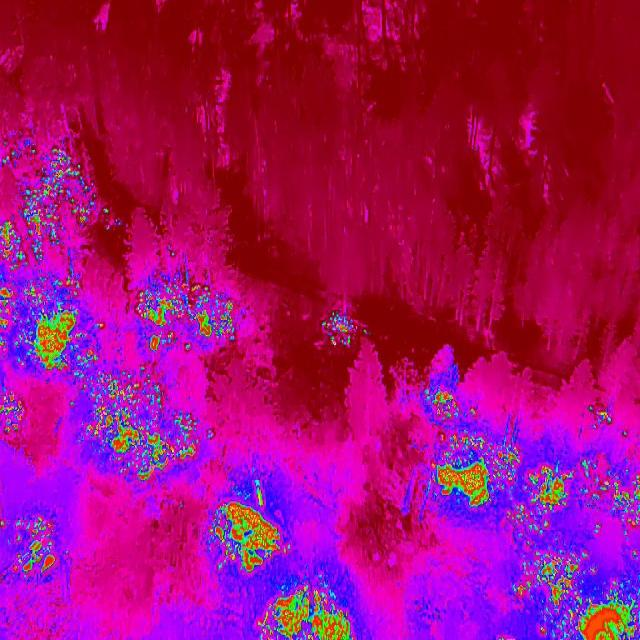fire: (500, 449, 640, 640), (0, 132, 83, 382), (72, 344, 212, 484), (420, 392, 529, 516), (200, 474, 299, 574), (138, 271, 240, 351), (254, 576, 356, 640), (0, 507, 67, 578), (316, 312, 370, 350), (0, 383, 29, 438), (582, 400, 620, 435)
